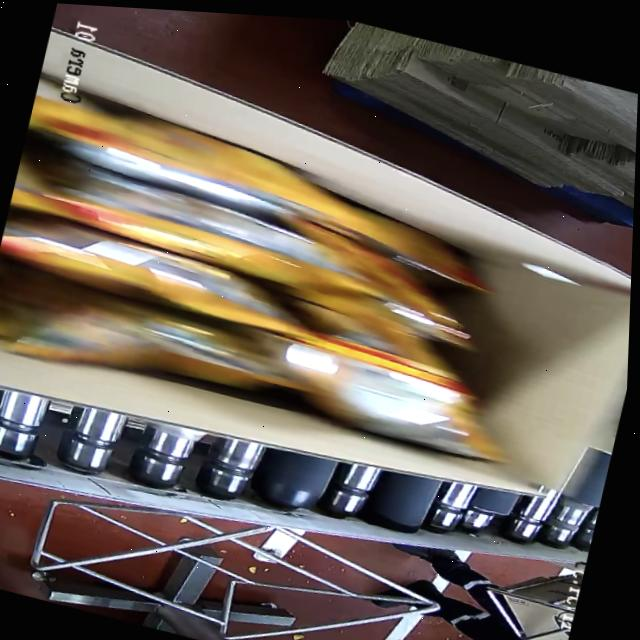FRENCH_CHEESE: (0, 69, 580, 491)
